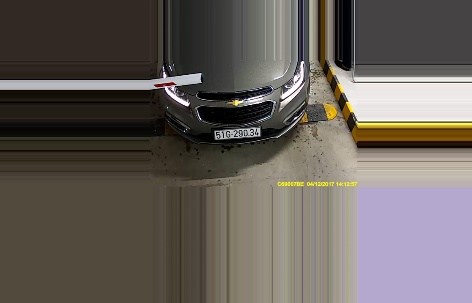plate: (211, 125, 263, 140)
